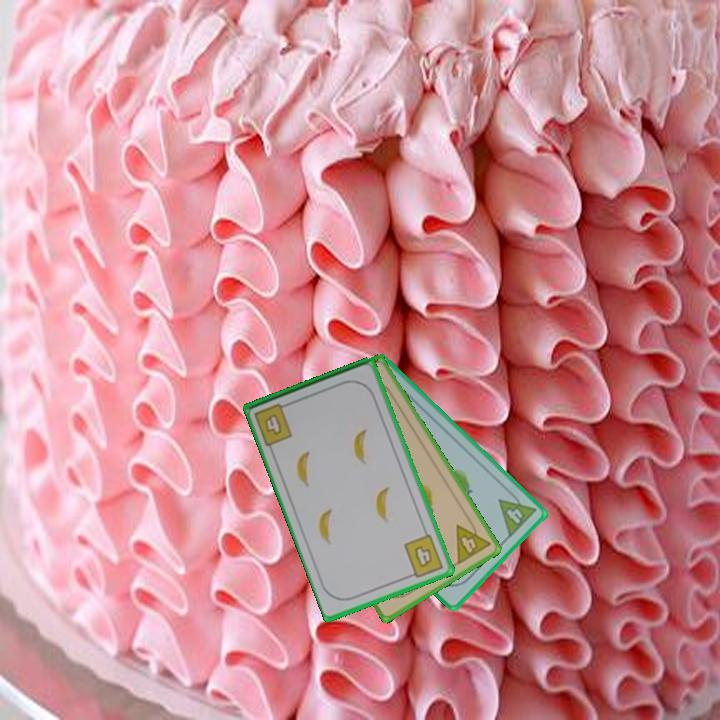4b: (400, 531, 446, 581), (251, 399, 296, 449)
4p: (495, 486, 539, 541), (452, 514, 494, 568)
